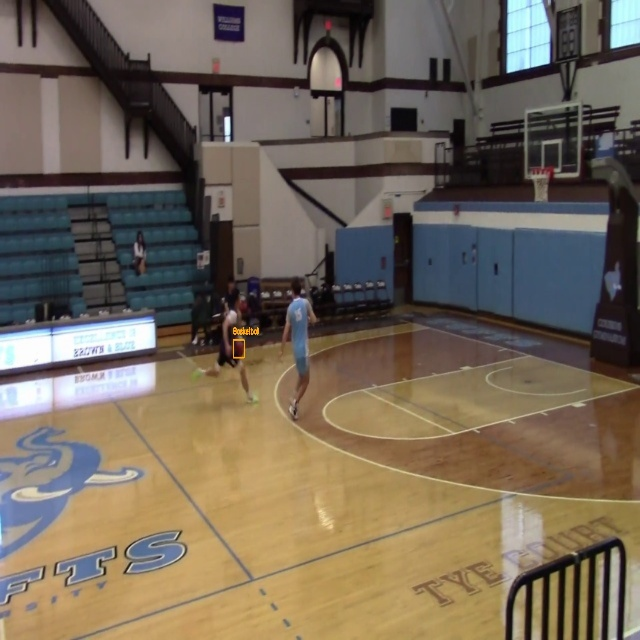Basketball: (233, 340, 244, 357)
